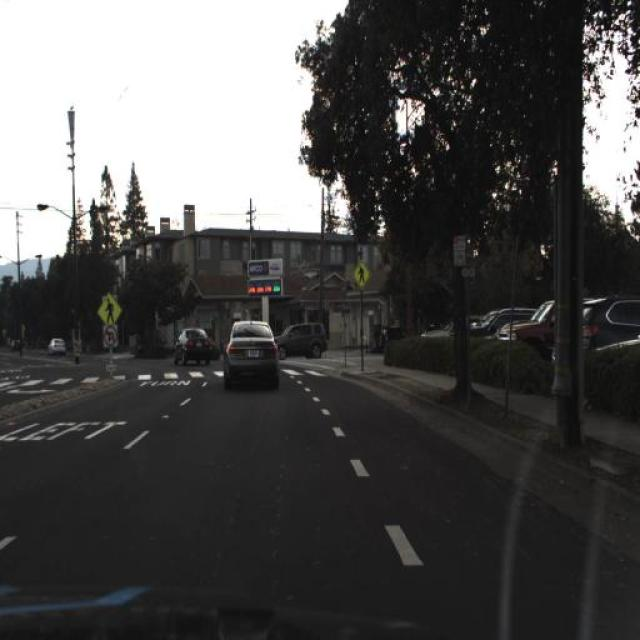car: (206, 314, 270, 394), (566, 295, 640, 357), (496, 299, 556, 359), (166, 319, 220, 379), (274, 319, 330, 356), (467, 302, 532, 333), (414, 309, 457, 353), (46, 329, 66, 358)
